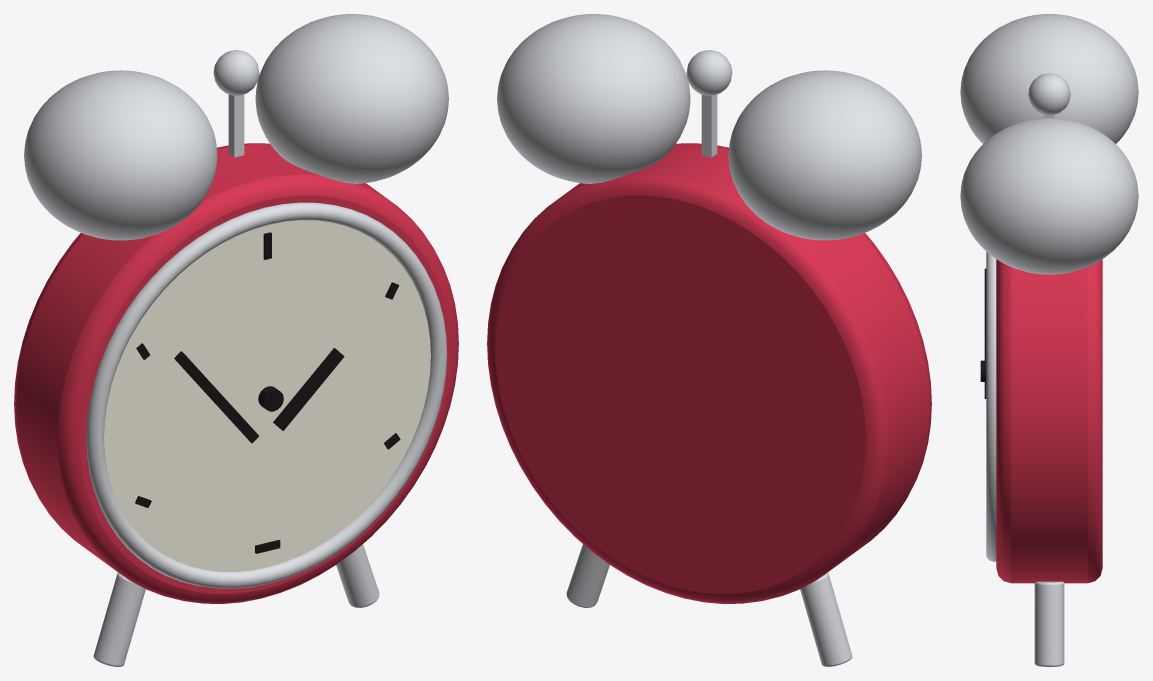
The model's file is clock.glb.
3 renders of one model, left to right at view 1: azimuth 30°, elevation 25°; view 2: azimuth 150°, elevation 25°; view 3: azimuth 270°, elevation 25°, orthographic. The views are drawn at different scales.
Parts seen in each view (by area): view 1: face, body, bell, bell.001, bezel, leg, leg.001, hammer, hour, minute, hammer_arm; view 2: body, bell, bell.001, leg, leg.001, hammer, hammer_arm; view 3: body, bell.001, bell, bezel, leg.001, hammer, minute.
Boxes of the visible parts, x1=… form: face: x1=104, y1=220, x2=430, y2=571; body: x1=14, y1=143, x2=458, y2=603; bell: x1=24, y1=70, x2=217, y2=240; bell.001: x1=255, y1=14, x2=448, y2=183; bezel: x1=86, y1=202, x2=447, y2=588; leg: x1=93, y1=572, x2=145, y2=666; leg.001: x1=336, y1=544, x2=379, y2=607; hammer: x1=213, y1=50, x2=259, y2=95; hour: x1=273, y1=348, x2=344, y2=430; minute: x1=174, y1=351, x2=258, y2=443; hammer_arm: x1=228, y1=94, x2=244, y2=157; body: x1=487, y1=143, x2=931, y2=603; bell: x1=728, y1=70, x2=921, y2=240; bell.001: x1=497, y1=14, x2=690, y2=183; leg: x1=800, y1=572, x2=852, y2=666; leg.001: x1=566, y1=544, x2=609, y2=607; hammer: x1=686, y1=50, x2=732, y2=95; hammer_arm: x1=701, y1=94, x2=717, y2=157; body: x1=996, y1=259, x2=1102, y2=583; bell.001: x1=960, y1=118, x2=1138, y2=274; bell: x1=960, y1=14, x2=1138, y2=143; bezel: x1=986, y1=252, x2=996, y2=561; leg.001: x1=1034, y1=581, x2=1064, y2=666; hammer: x1=1028, y1=73, x2=1070, y2=115; minute: x1=984, y1=268, x2=986, y2=398.
Bounding box in the file's own units: 2 × 2.79 × 0.84.
